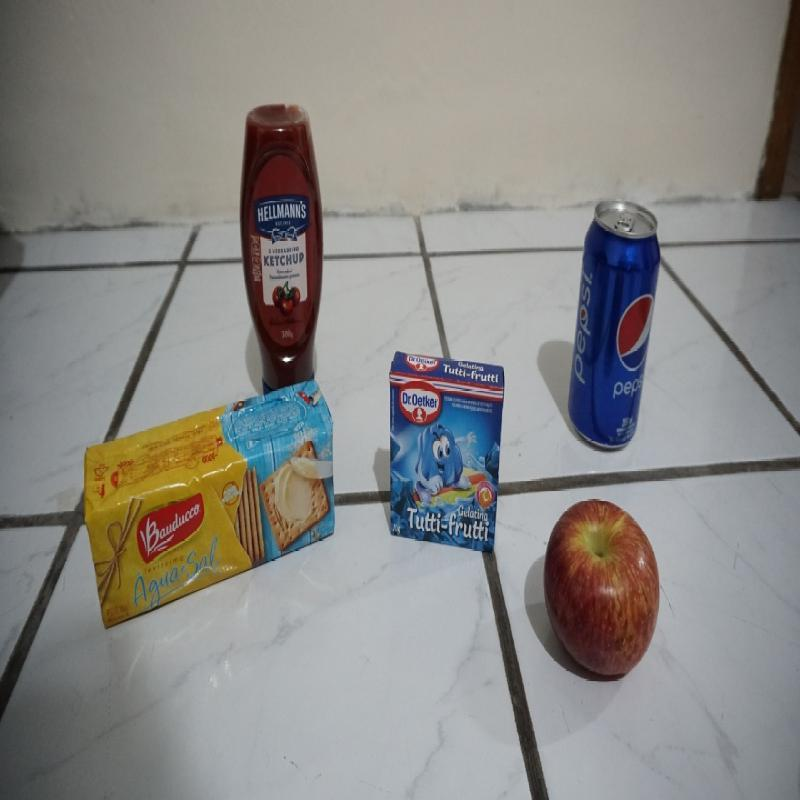Apple: (545, 487, 662, 682)
Cracker: (81, 382, 338, 636)
Gelatine: (384, 353, 507, 555)
Ketchup: (242, 99, 326, 379)
Soda can: (562, 198, 669, 444)
